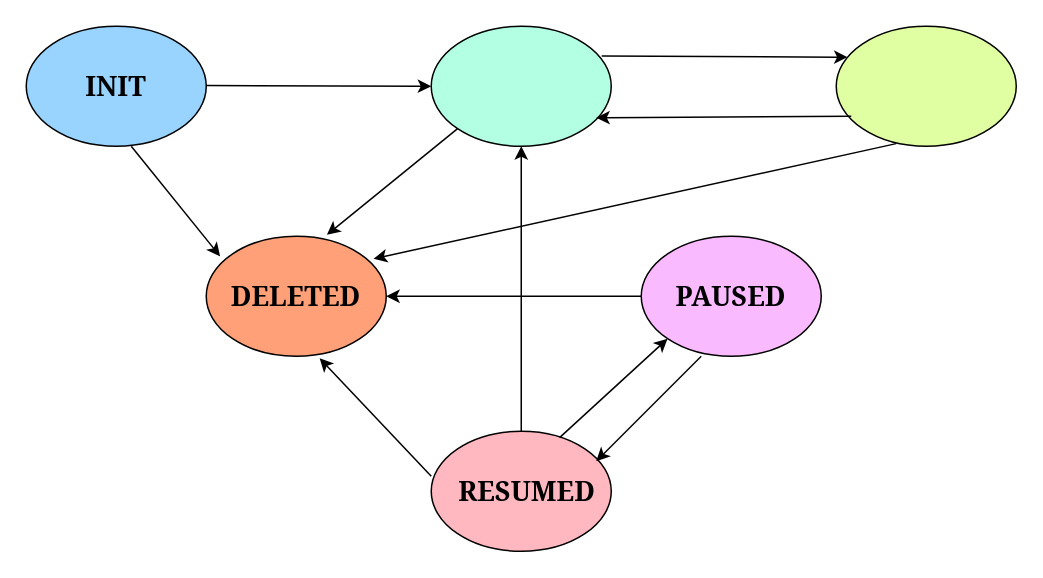
The diagram is 1043 pixels wide and 578 high, and some of its shapes have lost their labels. Each missing label, with the centre of its shape:
CANCELLED: the point at 925,85
RUNNING: the point at 520,85
